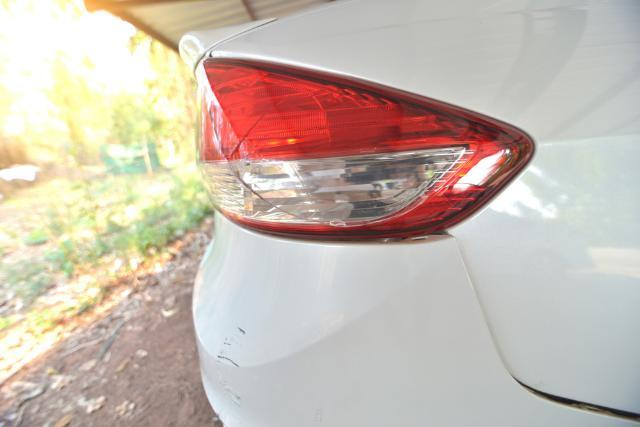lamp broken: (196, 58, 534, 240)
scratch: (215, 321, 248, 413)
